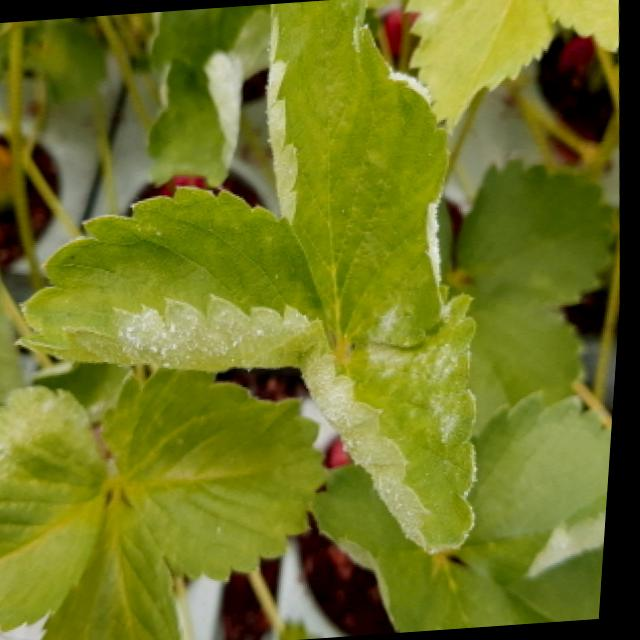Powdery Mildew Leaf: (264, 0, 452, 352), (18, 183, 337, 371), (301, 281, 484, 553), (0, 382, 121, 632), (465, 386, 618, 580), (143, 3, 270, 186)
